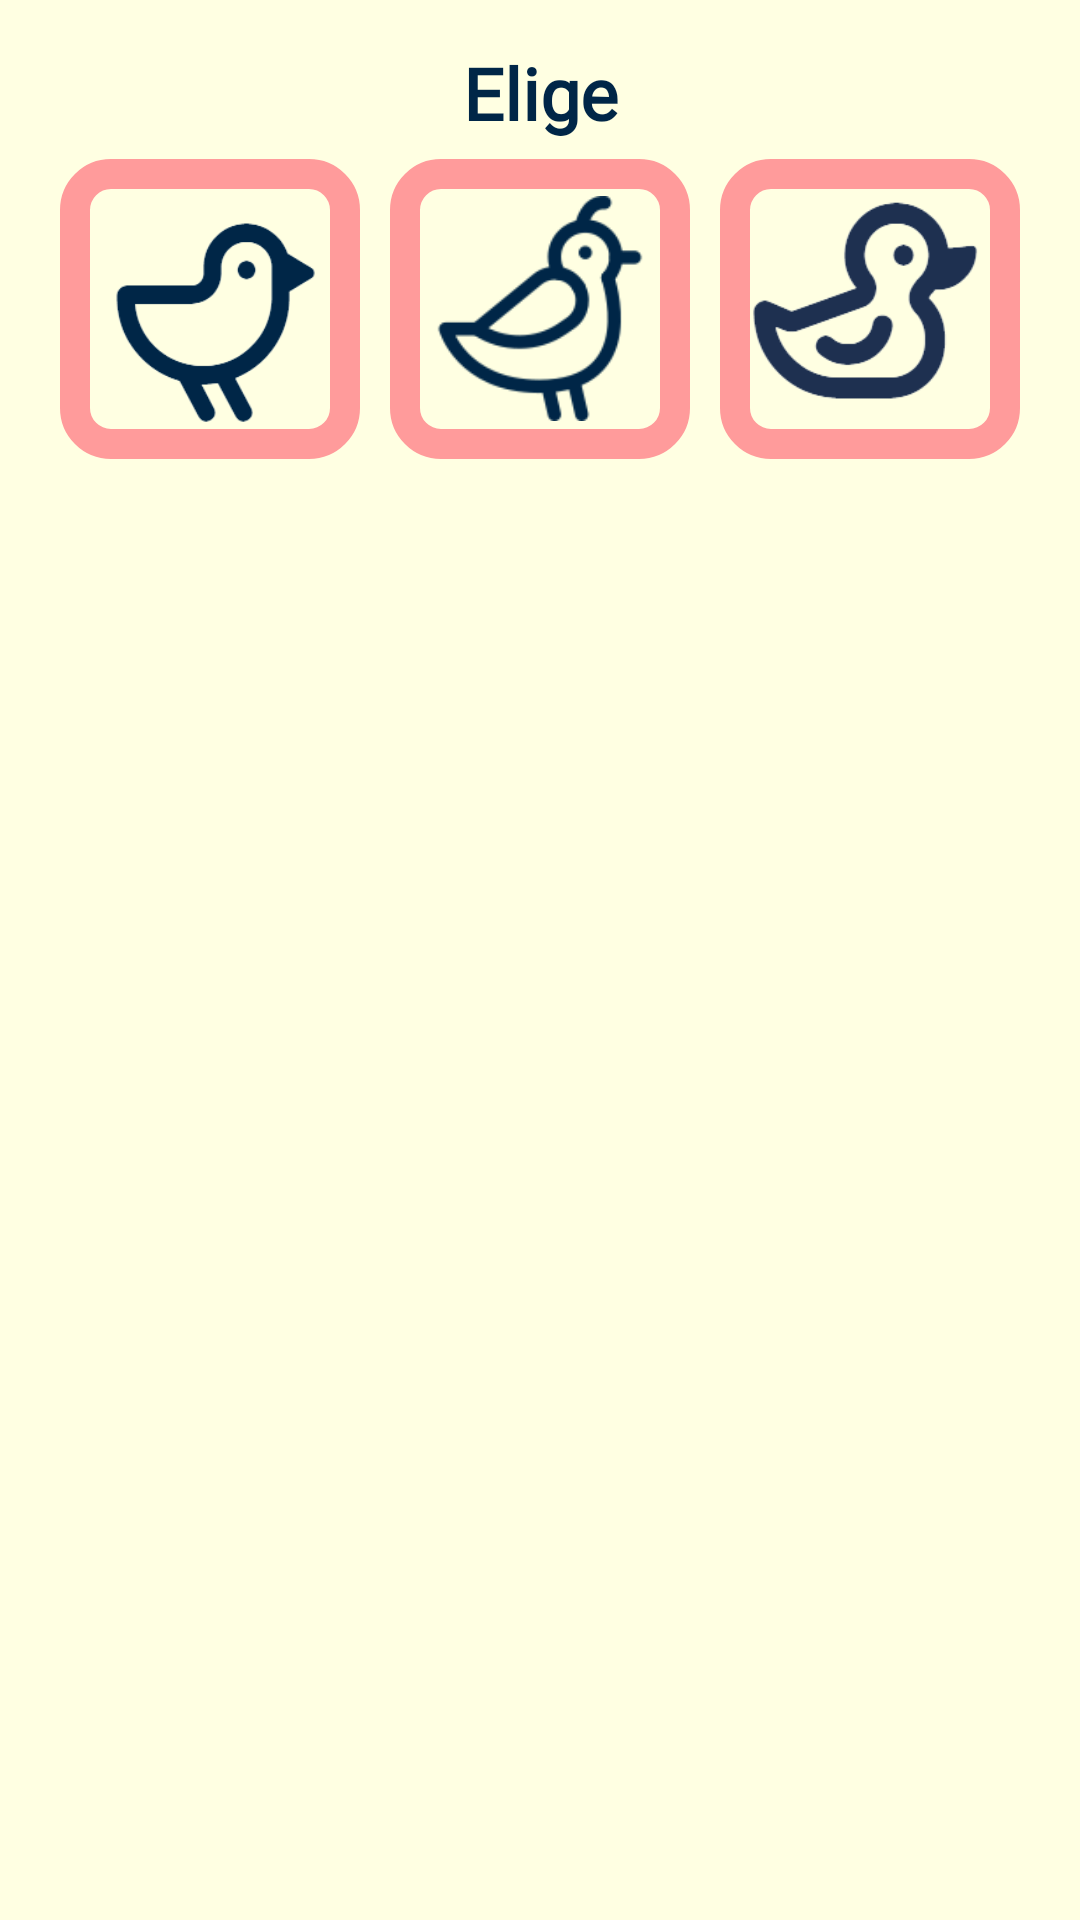

Icon click points for this 1080px×1920px phone screenshot, format (x=x, y=y):
codorniz: (x=540, y=308)
pato: (x=870, y=309)
pollo: (x=210, y=309)
